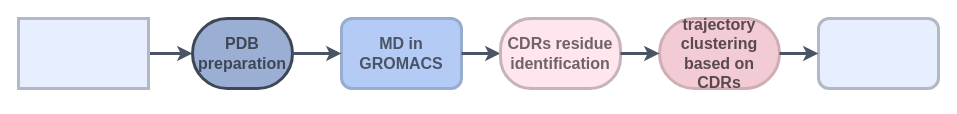
Some shapes in this 957 by 114 pixel diagram are drawn without their labels. Here are the shapes that lost their labels. From the top down, the box of each, then its label:
(16, 16, 150, 90): antibody crystal structure
(816, 16, 940, 90): HADDOCK run preparation
